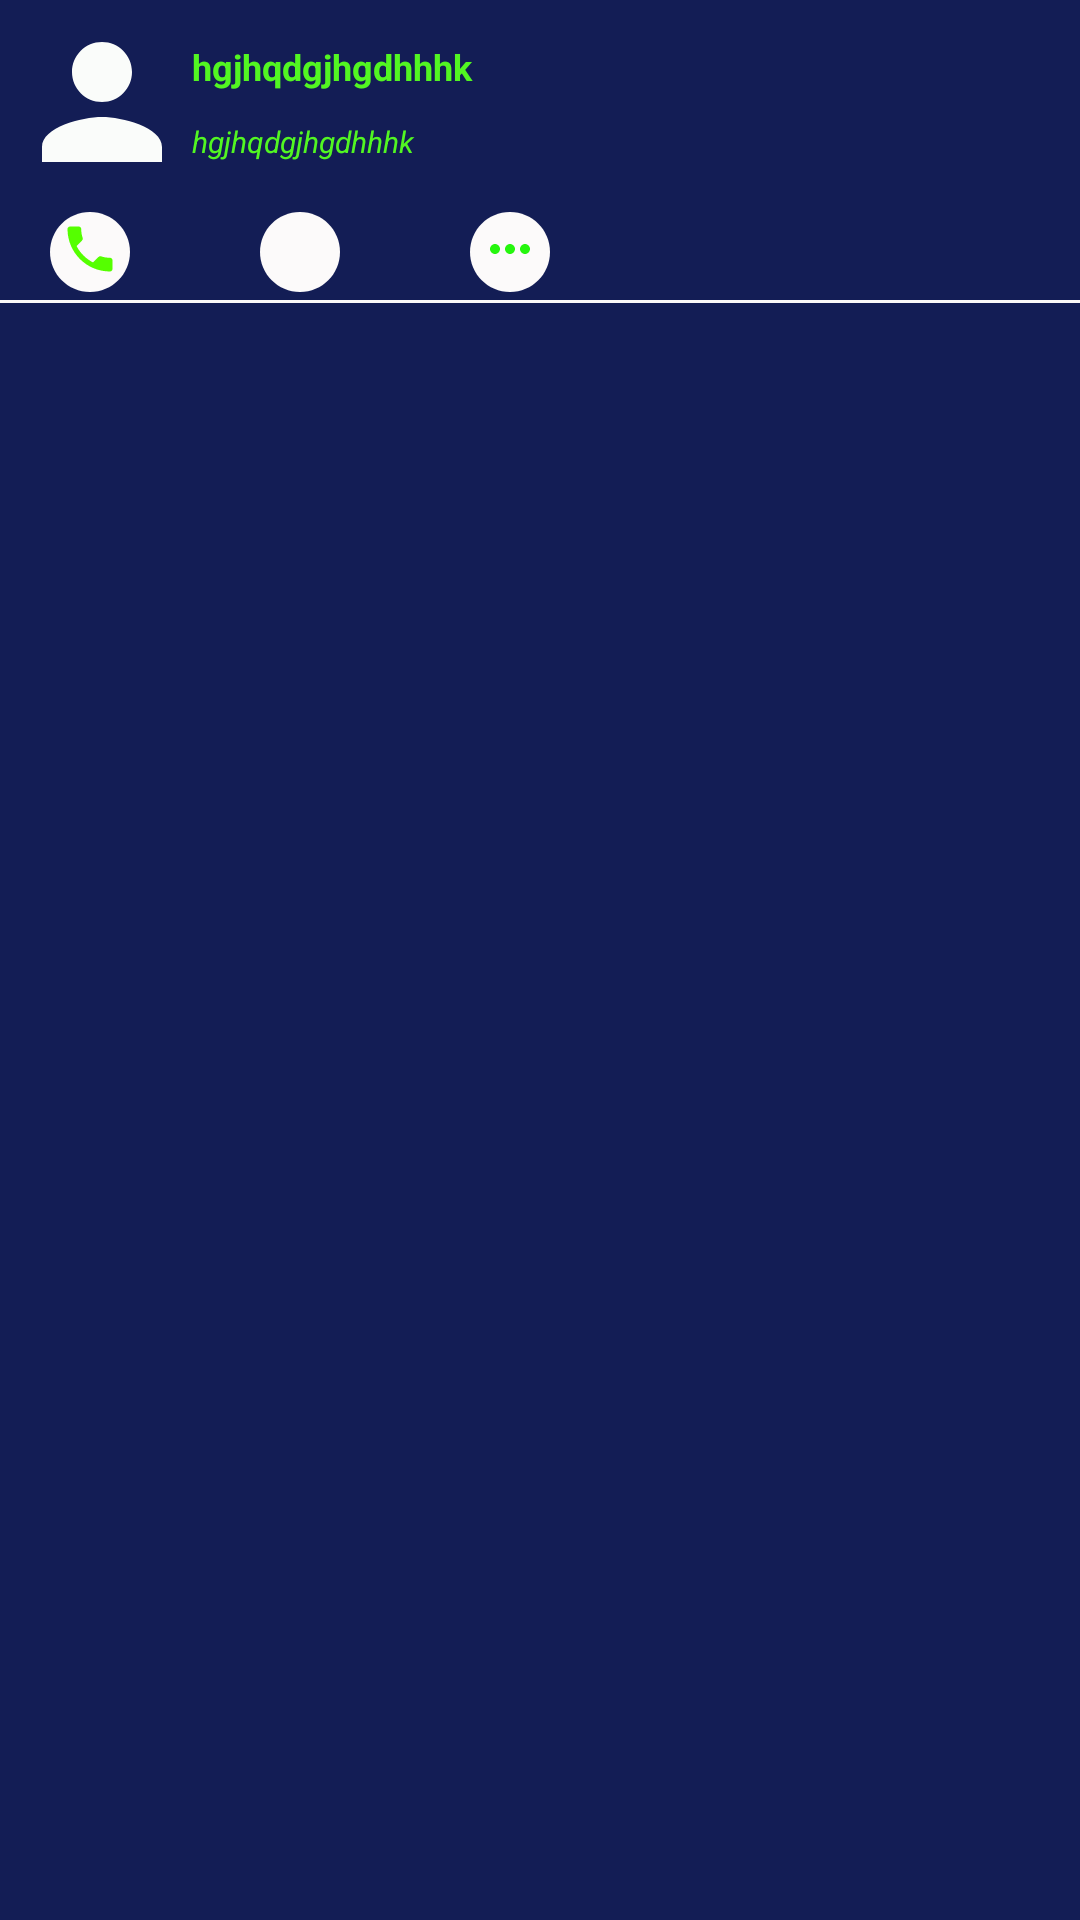

Where to tap for icons on this 1080w x 1920h app screen, as [x,y]:
person: [102,102]
